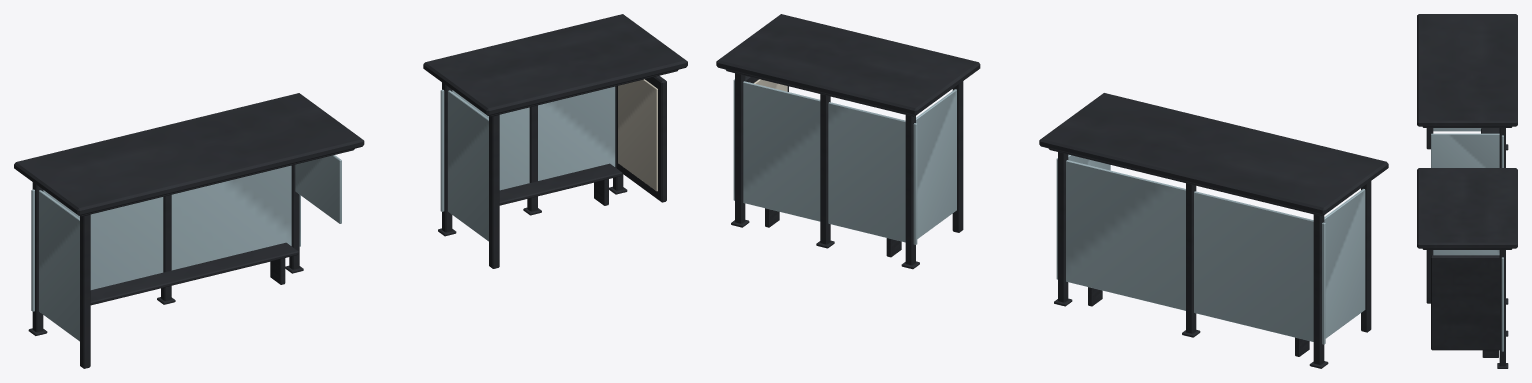
Rendered from bus_shelter.glb.
3 views of the same model, side by side, from view 1: azimuth 30°, elevation 25°; view 2: azimuth 150°, elevation 25°; view 3: azimuth 270°, elevation 25° (orthographic). The views are drawn at different scales.
Parts seen in each view (by area): view 1: bus_shelter_v1, bus_shelter_v2; view 2: bus_shelter_v1, bus_shelter_v2; view 3: bus_shelter_v2, bus_shelter_v1.
Boxes of the visible parts, <box> form: bus_shelter_v1: <box>14,93,364,368</box>; bus_shelter_v2: <box>423,14,687,268</box>; bus_shelter_v1: <box>1039,93,1388,368</box>; bus_shelter_v2: <box>716,14,980,269</box>; bus_shelter_v2: <box>1417,168,1517,368</box>; bus_shelter_v1: <box>1417,14,1517,167</box>.
Size of the model in its own units: 10 by 2.62 by 1.85.
Materials: 2 (2 with a texture image).
